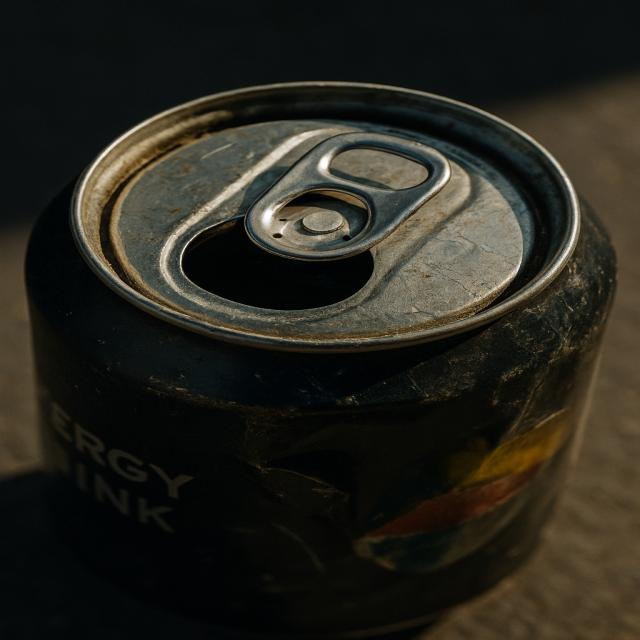aluminum: (20, 84, 621, 633)
